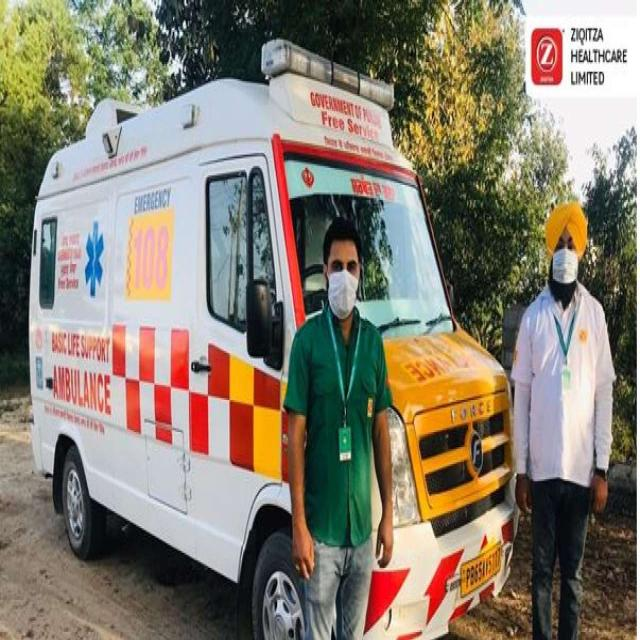ambulance: (29, 39, 521, 640)
